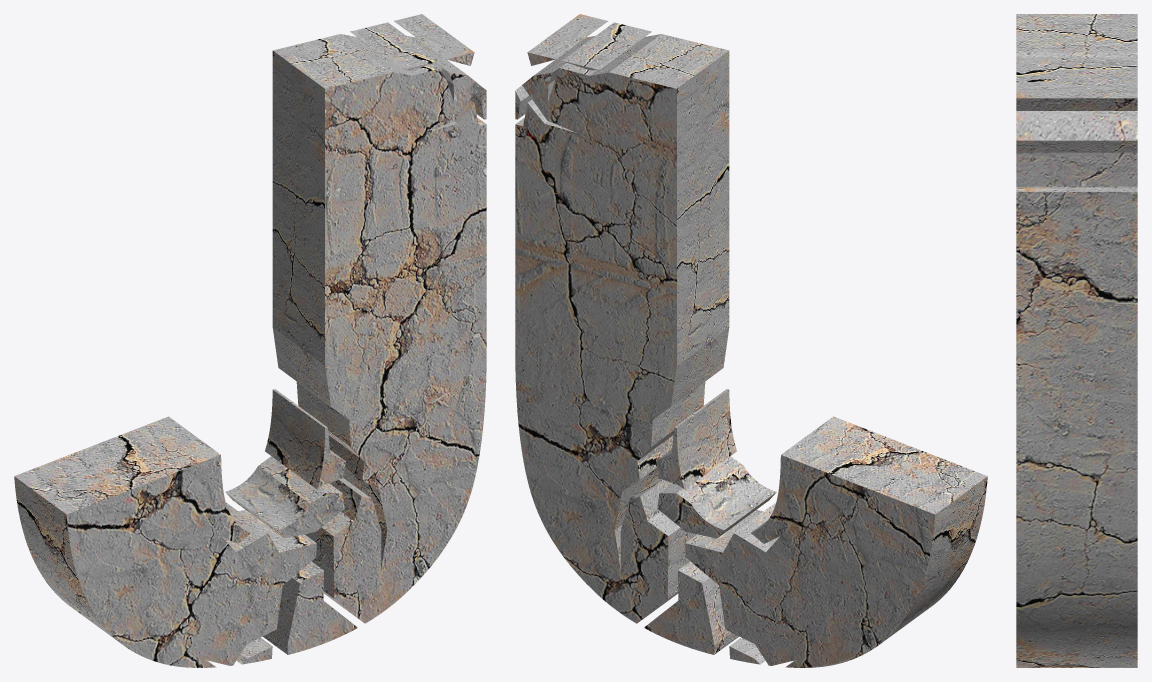
3 views of the same model, side by side, from view 1: azimuth 30°, elevation 25°; view 2: azimuth 150°, elevation 25°; view 3: azimuth 270°, elevation 25° (orthographic). The views are drawn at different scales.
Visible parts, largest first — view 1: J; view 2: J; view 3: J.
Part boxes in pixels (x1,y1,x2,y2): J: [14, 14, 486, 667]; J: [515, 14, 987, 667]; J: [1016, 14, 1137, 667].
Size of the model in its own units: 69.36 by 87.88 by 15.
1 material, 1 textured.
